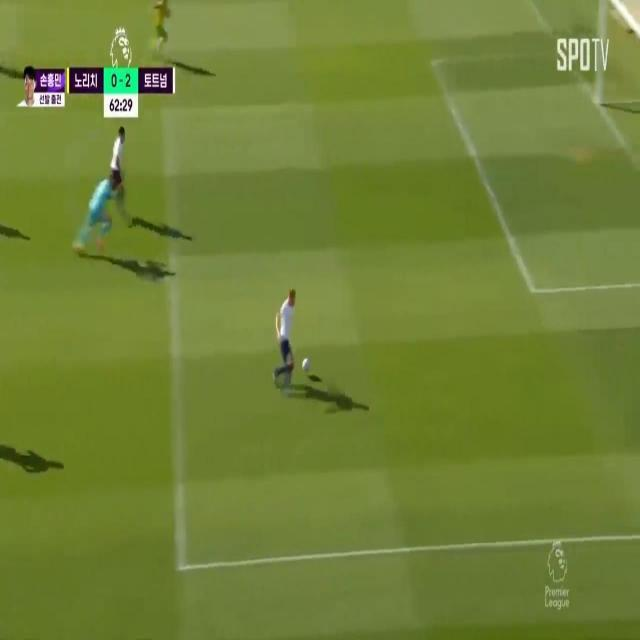ball: (302, 352, 313, 380)
goalkeeper: (81, 170, 114, 288)
player: (272, 282, 299, 391), (110, 125, 132, 223), (152, 0, 176, 56)
